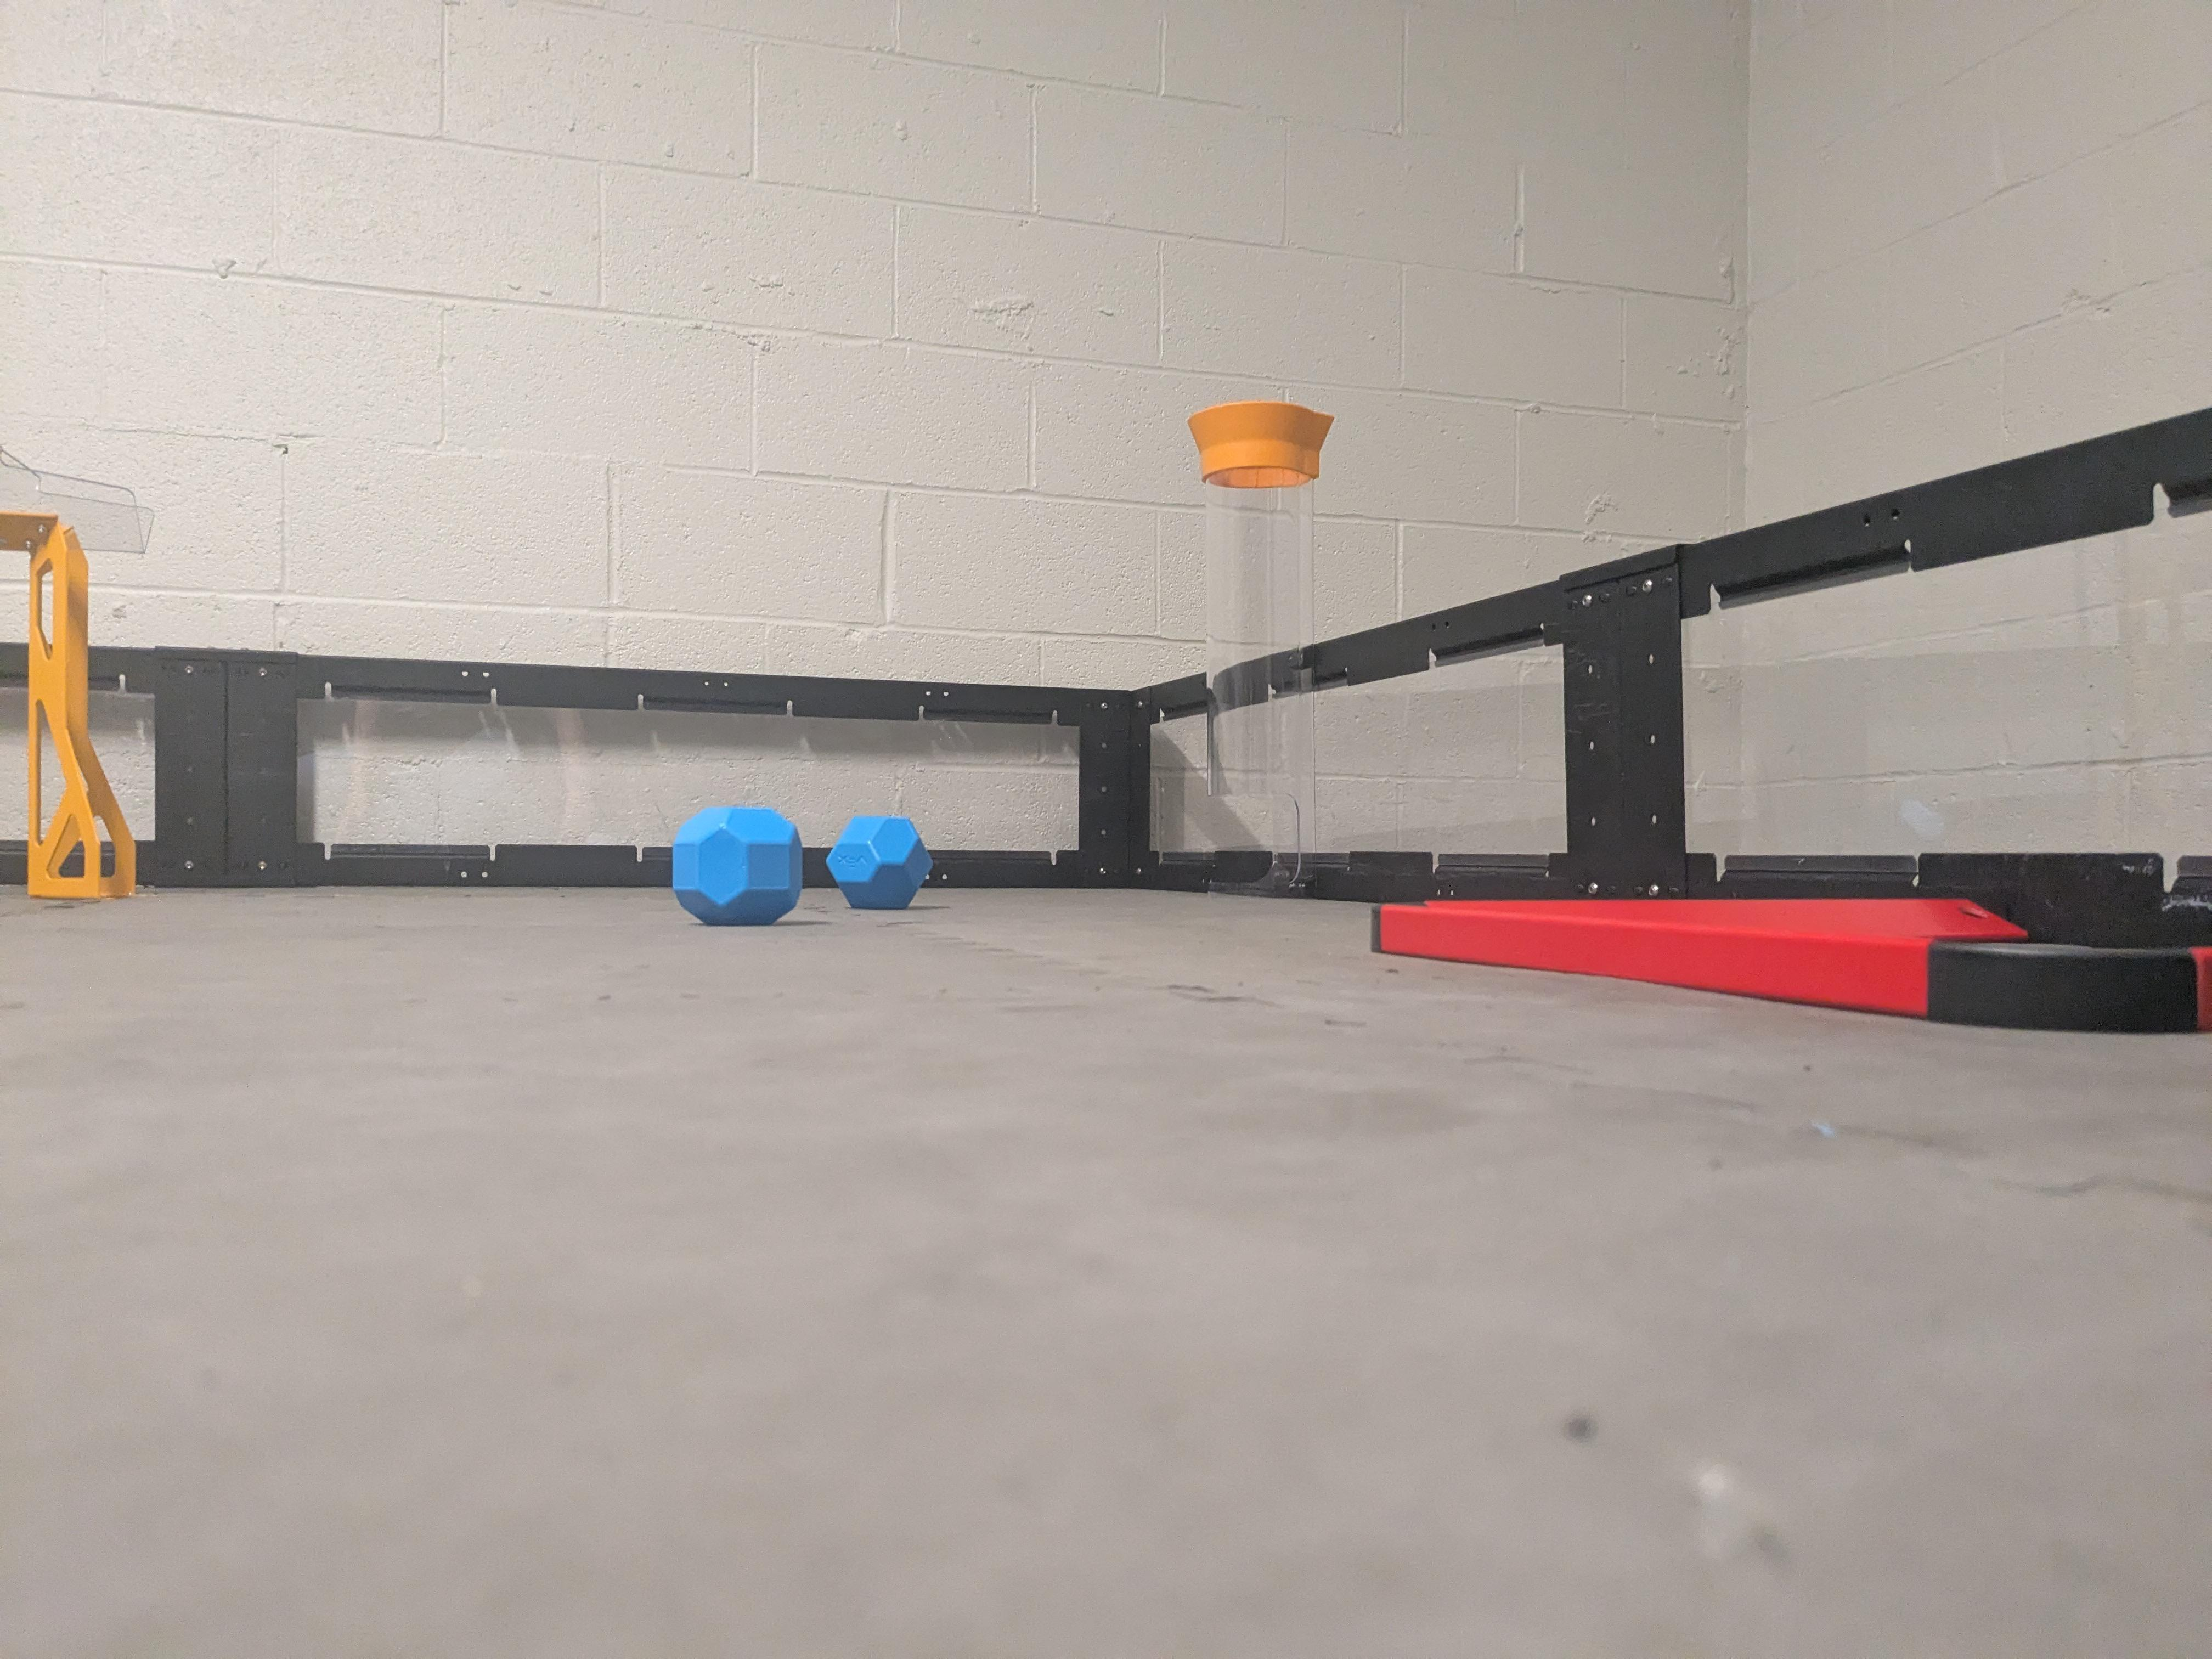Vex-Pieces-BLUE: (671, 805, 805, 924), (833, 816, 930, 910)
